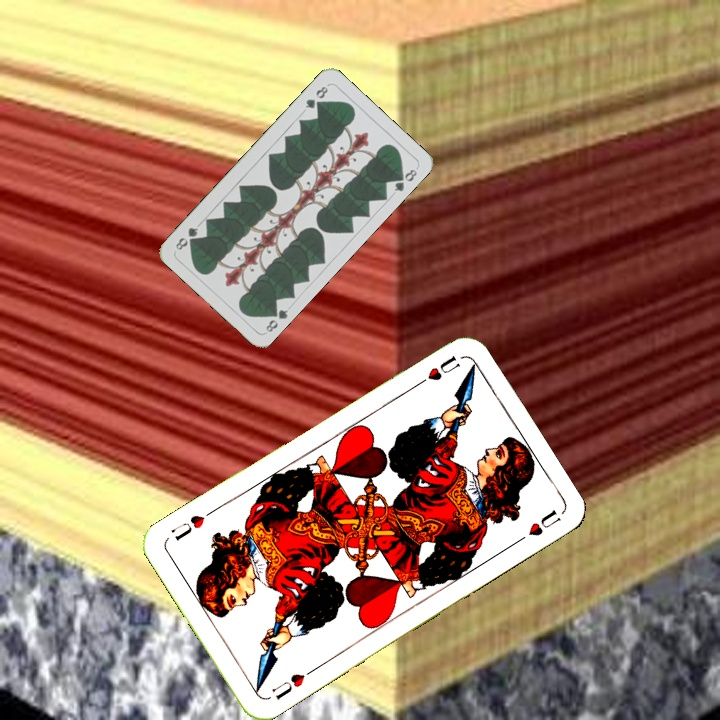G8: (262, 303, 291, 336), (301, 81, 331, 111)
HU: (411, 351, 463, 390), (267, 664, 317, 703)
